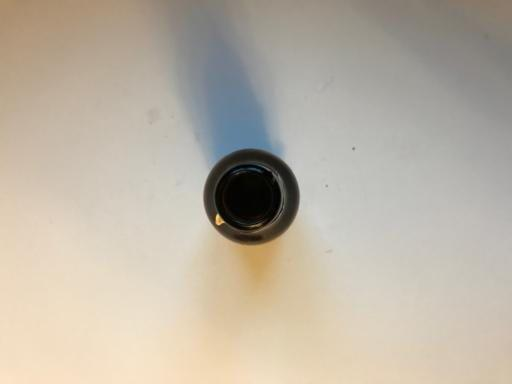botolkaca: (204, 150, 301, 245)
